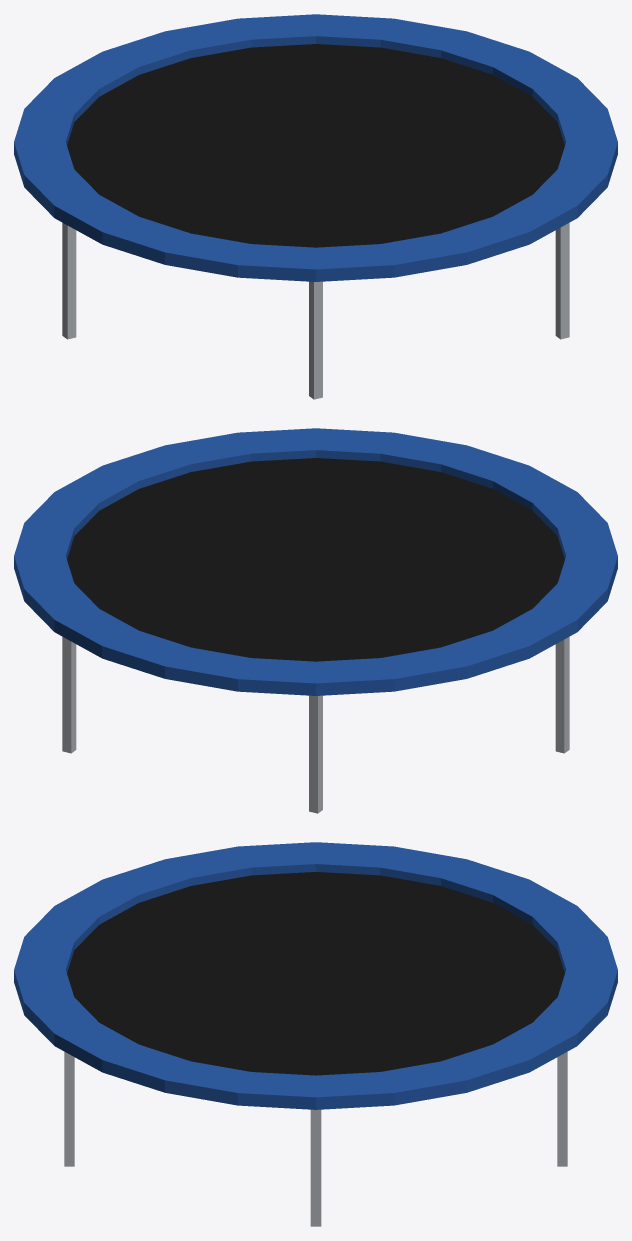
Rendered from sb_trampoline.glb.
3 views of the same model, one above another, from view 1: azimuth 30°, elevation 25°; view 2: azimuth 150°, elevation 25°; view 3: azimuth 270°, elevation 25° (orthographic).
Parts seen in each view (by area): view 1: sb_trampoline; view 2: sb_trampoline; view 3: sb_trampoline.
Part boxes in pixels (<box>): sb_trampoline: <box>14,14,617,399</box>; sb_trampoline: <box>14,428,617,813</box>; sb_trampoline: <box>14,842,617,1226</box>.
Size of the model in its own units: 3.5 by 0.86 by 3.5.
